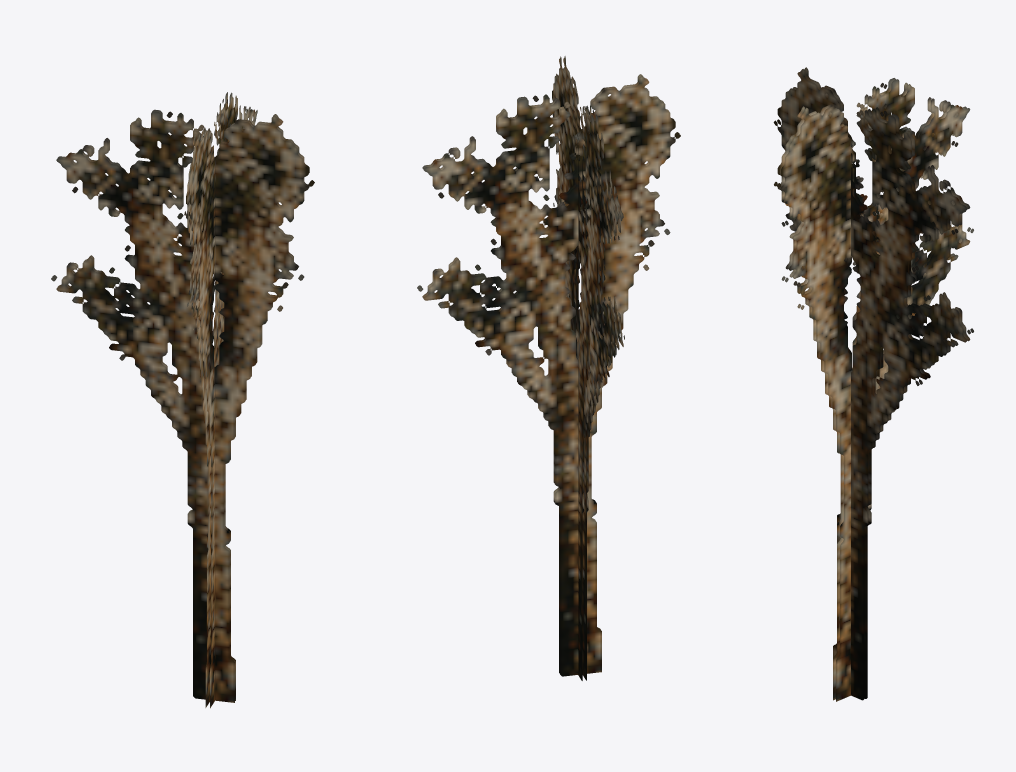
File: tree053.fbx
3 renders of one model, left to right at view 1: azimuth 30°, elevation 25°; view 2: azimuth 150°, elevation 25°; view 3: azimuth 270°, elevation 25°, orthographic. The views are drawn at different scales.
Visible parts, largest first — view 1: tree053; view 2: tree053; view 3: tree053.
Part boxes in pixels (x1,y1,x2,y2): tree053: (51,92,314,708); tree053: (417,56,680,680); tree053: (773,67,973,701).
Bounding box in the file's own units: 121 × 282 × 102.
1 material, 1 textured.
